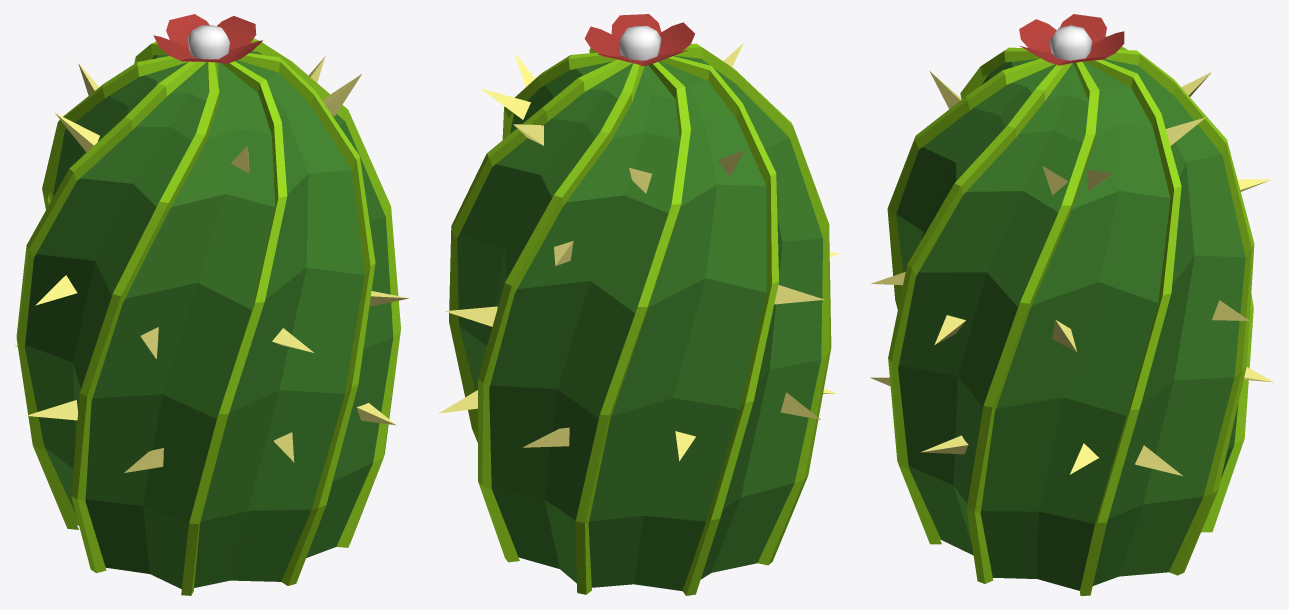
File: Cactus_20_B.fbx
3 renders of one model, left to right at view 1: azimuth 30°, elevation 25°; view 2: azimuth 150°, elevation 25°; view 3: azimuth 270°, elevation 25°, orthographic.
Parts seen in each view (by area): view 1: Cactus_20_B; view 2: Cactus_20_B; view 3: Cactus_20_B.
Part boxes in pixels (<box>): Cactus_20_B: <box>14,14,408,595</box>; Cactus_20_B: <box>438,14,840,595</box>; Cactus_20_B: <box>870,14,1273,595</box>.
Size of the model in its own units: 118 by 158 by 114.
